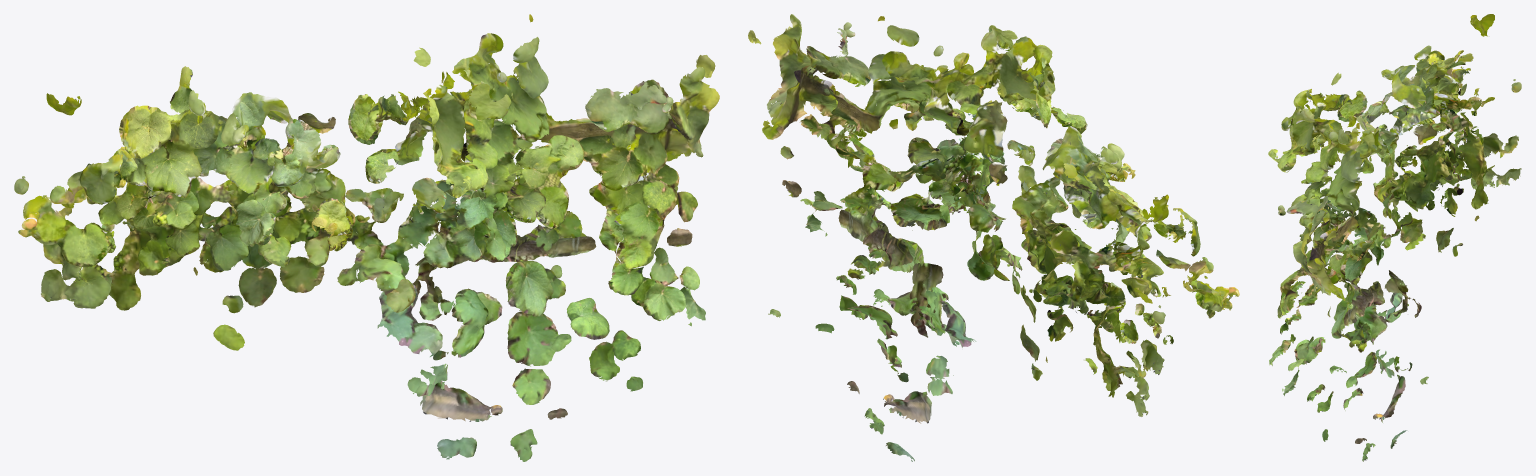
The model's file is grape_vines.glb.
3 renders of one model, left to right at view 1: azimuth 30°, elevation 25°; view 2: azimuth 150°, elevation 25°; view 3: azimuth 270°, elevation 25°, orthographic. The views are drawn at different scales.
Visible parts, largest first — view 1: Object_2, Object_3; view 2: Object_2, Object_3; view 3: Object_2, Object_3.
Part boxes in pixels (x1,y1,x2,y2): Object_2: (14, 14, 719, 461); Object_3: (18, 33, 707, 410); Object_2: (748, 14, 1239, 461); Object_3: (770, 22, 1232, 418); Object_2: (1268, 18, 1521, 461); Object_3: (1269, 14, 1520, 418).
Bounding box in the file's own units: 2.41 × 1.71 × 1.15.
1 material, 1 textured.
